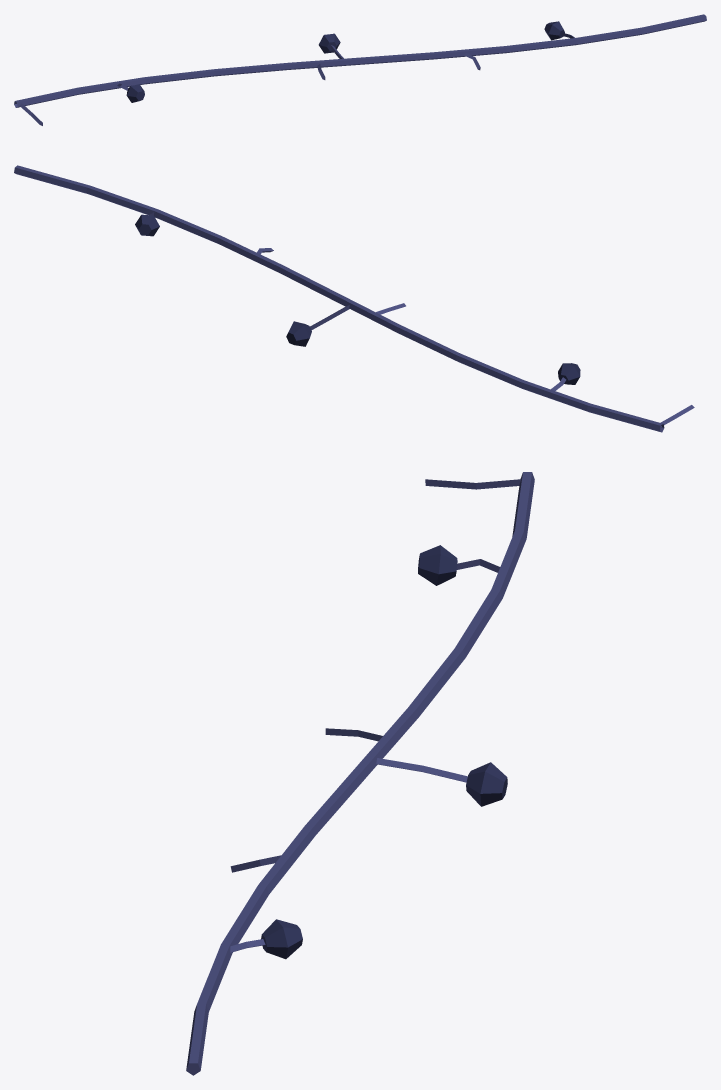
3 views of the same model, one above another, from view 1: azimuth 30°, elevation 25°; view 2: azimuth 150°, elevation 25°; view 3: azimuth 270°, elevation 25° (orthographic). The views are drawn at different scales.
Size of the model in its own units: 1.01 by 0.0411 by 0.2493.
